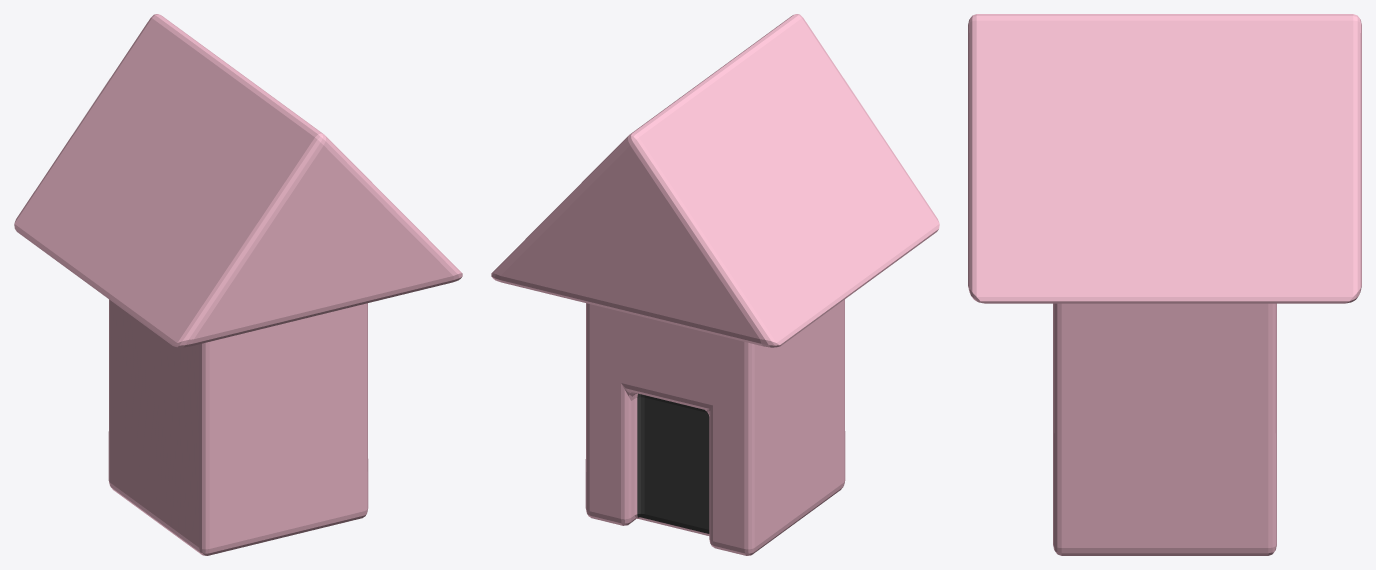
Rendered from HyperTowerDefence_House.fbx.
3 views of the same model, side by side, from view 1: azimuth 30°, elevation 25°; view 2: azimuth 150°, elevation 25°; view 3: azimuth 270°, elevation 25° (orthographic). The views are drawn at different scales.
Visible parts, largest first — view 1: Cube.001; view 2: Cube.001; view 3: Cube.001.
Part boxes in pixels (x1,y1,x2,y2): Cube.001: (14, 14, 462, 555); Cube.001: (491, 14, 939, 555); Cube.001: (968, 14, 1361, 555).
Size of the model in its own units: 438 by 624 by 448.
